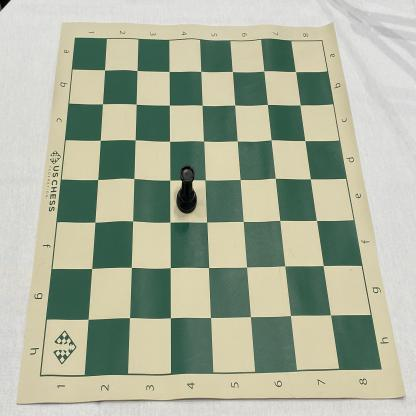black-rook: (175, 164, 198, 215)
